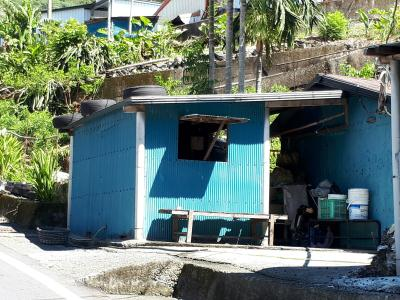bucket: (344, 186, 371, 221)
tire: (120, 84, 167, 99), (79, 99, 117, 113), (51, 114, 88, 128)
